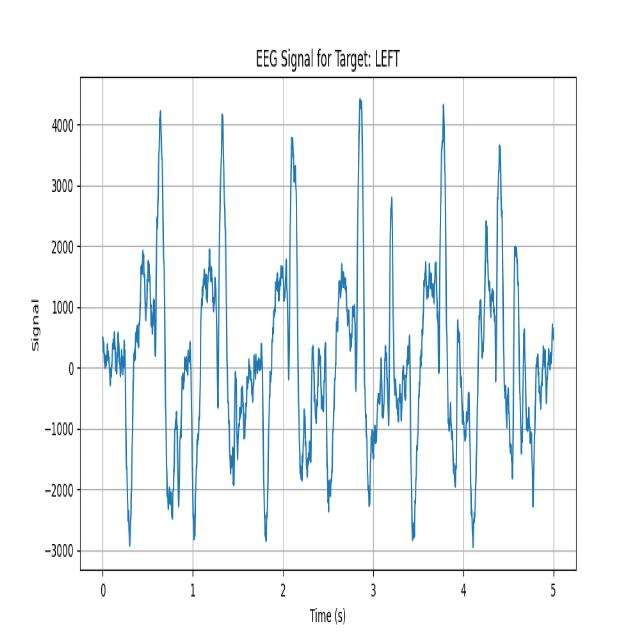LEFT: (248, 100, 318, 545), (180, 103, 249, 547), (404, 96, 462, 543), (125, 103, 182, 546), (318, 96, 370, 542), (472, 129, 514, 549)
